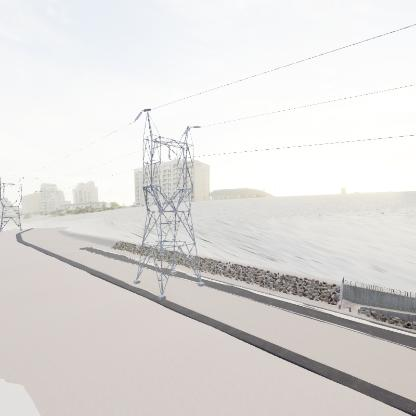tower: (128, 102, 212, 306), (0, 179, 27, 239)
